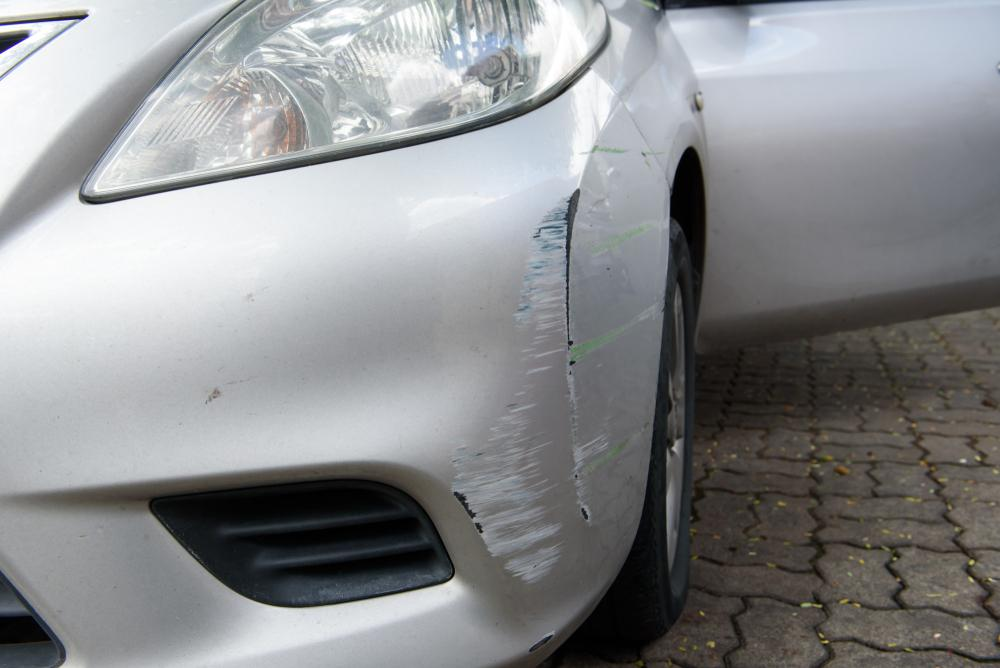scratch: (446, 144, 669, 587), (528, 630, 558, 654)
